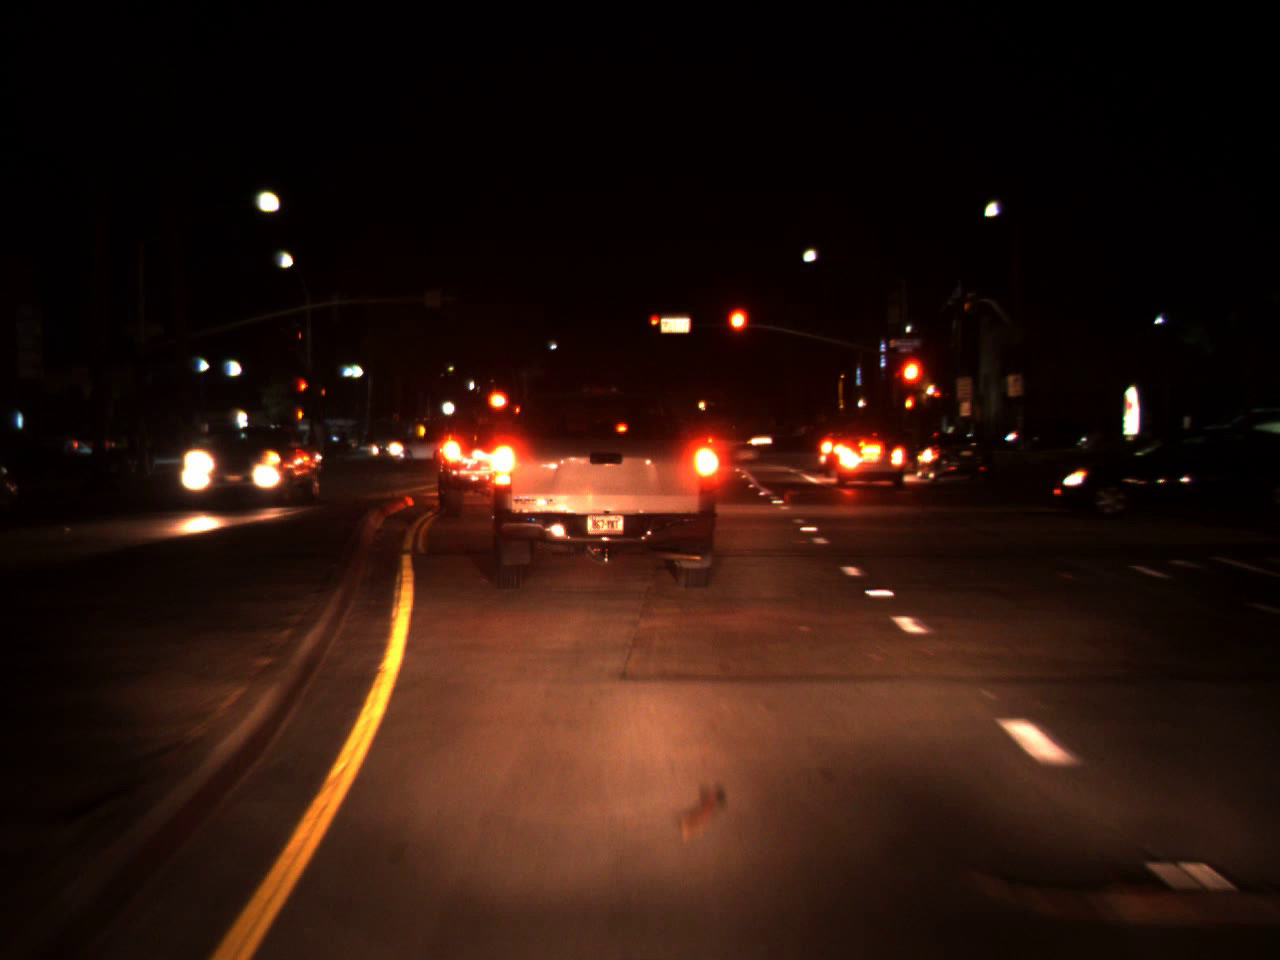stop: (895, 354, 926, 418), (724, 305, 751, 359), (298, 378, 310, 402), (650, 314, 660, 335)
